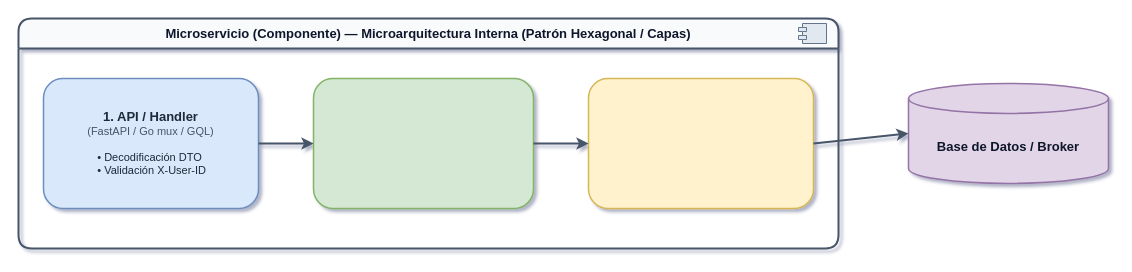
The diagram is 1132 pixels wide and 272 high, and some of its shapes have lost their labels. Each missing label, with the centre of its shape:
"2. Service / Domain • Reglas de negocio puras • Orquestación y políticas" belongs at point (423, 143).
"3. Repository / Messaging • pgx / SQLAlchemy / PyMongo • Publisher AMQP RabbitMQ" belongs at point (700, 143).
